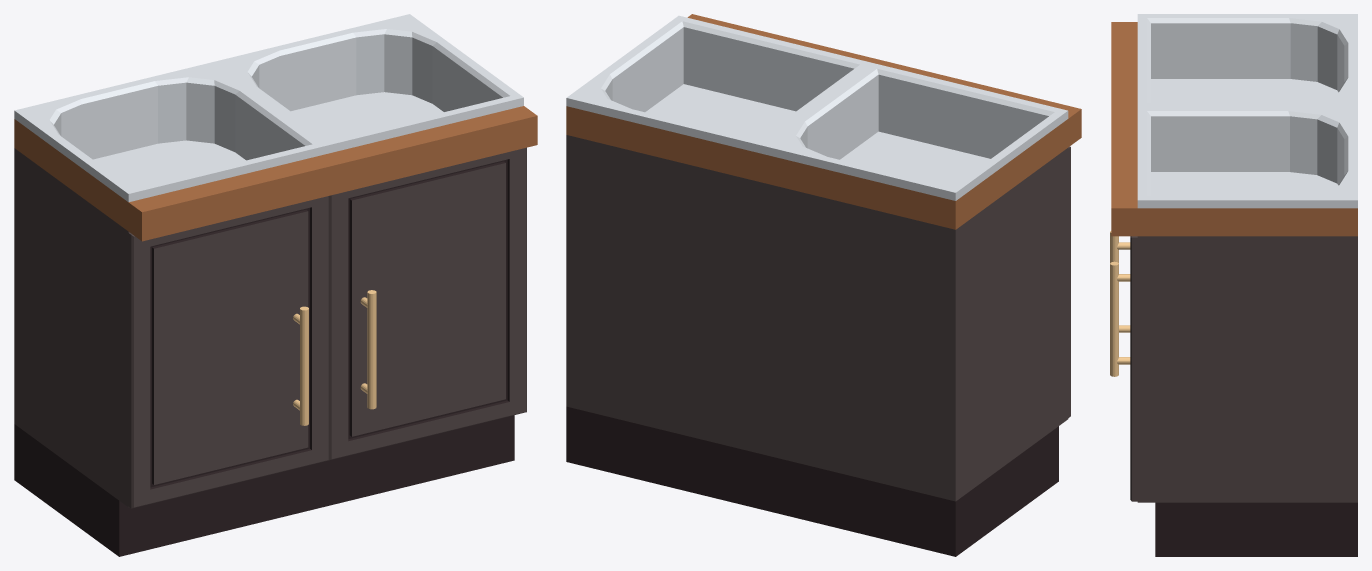
Rendered from Prop_KitchenSink.fbx.
3 views of the same model, side by side, from view 1: azimuth 30°, elevation 25°; view 2: azimuth 150°, elevation 25°; view 3: azimuth 270°, elevation 25° (orthographic). The views are drawn at different scales.
Visible parts, largest first — view 1: Prop_KitchenSink; view 2: Prop_KitchenSink; view 3: Prop_KitchenSink.
Part boxes in pixels (left/top/right/bottom): Prop_KitchenSink: left=14, top=14, right=537, bottom=556; Prop_KitchenSink: left=566, top=14, right=1081, bottom=556; Prop_KitchenSink: left=1110, top=14, right=1357, bottom=556.
Size of the model in its own units: 120 by 107 by 67.48.
